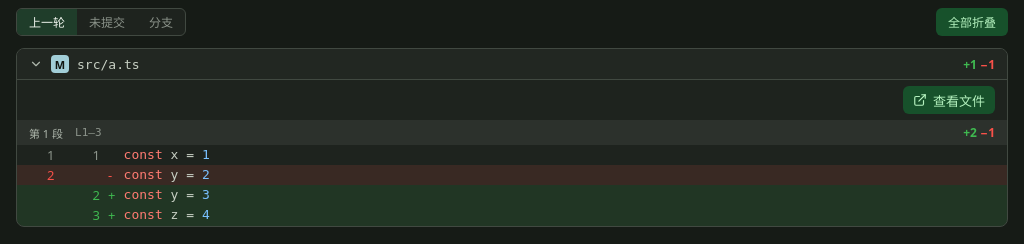
DiffView › 文件块折叠：点击头部收起行
Expected: the number of elements with class "diff-row" is 4, [47, 146, 210, 164]; [17, 165, 1007, 185]; [17, 185, 1007, 205]; [17, 205, 1007, 226]
Click the text titled "src/a.ts".
click(108, 64)  # box [77, 56, 140, 72]
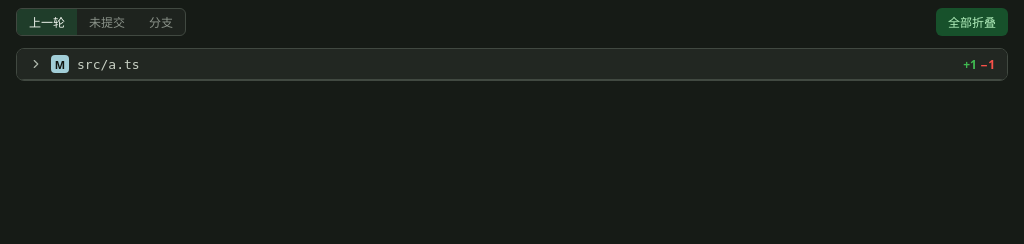
Result: no elements with class "diff-row" are shown
Click the text titled "src/a.ts".
click(108, 64)  # box [77, 56, 140, 72]
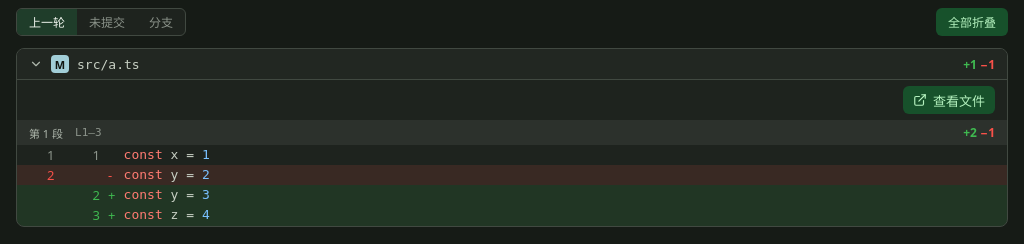
Result: the number of elements with class "diff-row" is 4 at [47, 146, 210, 164]; [17, 165, 1007, 185]; [17, 185, 1007, 205]; [17, 205, 1007, 226]
